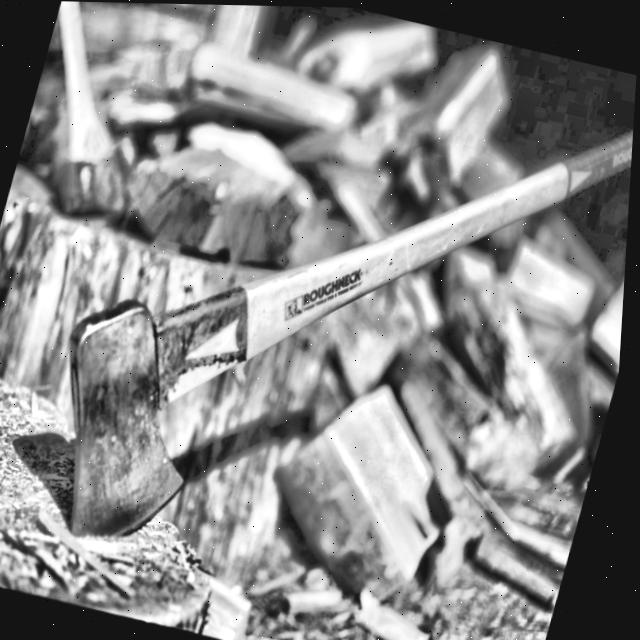kapak: (62, 125, 633, 546)
